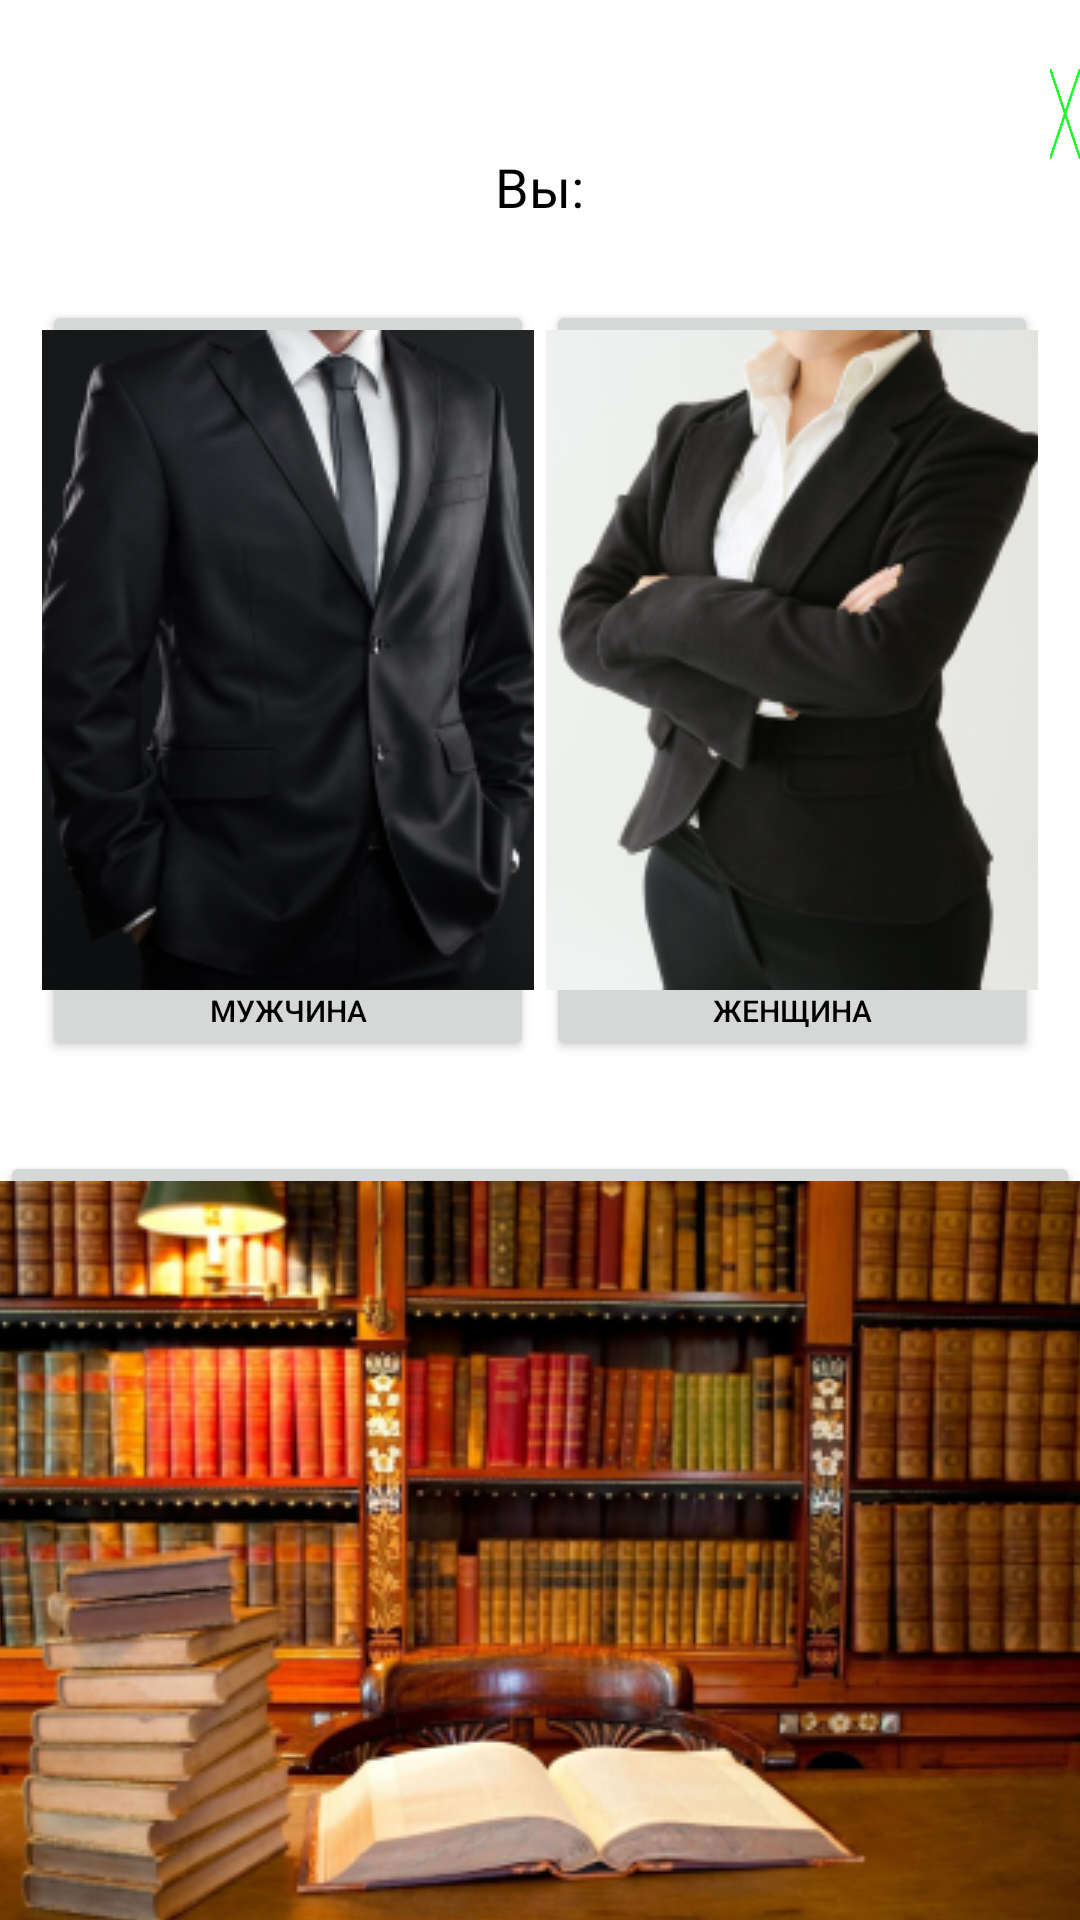

Where icons sit on this 1080×1920 app screen, as box=[x1, y1, x2, y2]:
close: box=[1050, 69, 1080, 159]
